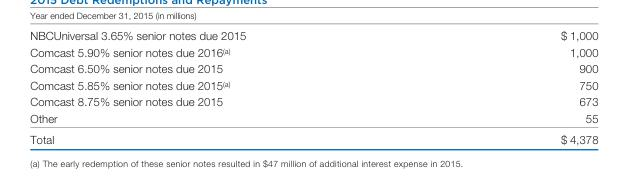table: (29, 28, 597, 145)
table column: (29, 28, 402, 145), (402, 28, 597, 145)
table row: (29, 109, 597, 128), (29, 59, 597, 76), (29, 92, 597, 109), (29, 128, 597, 145), (29, 43, 597, 59), (29, 76, 597, 92), (29, 28, 597, 43)
